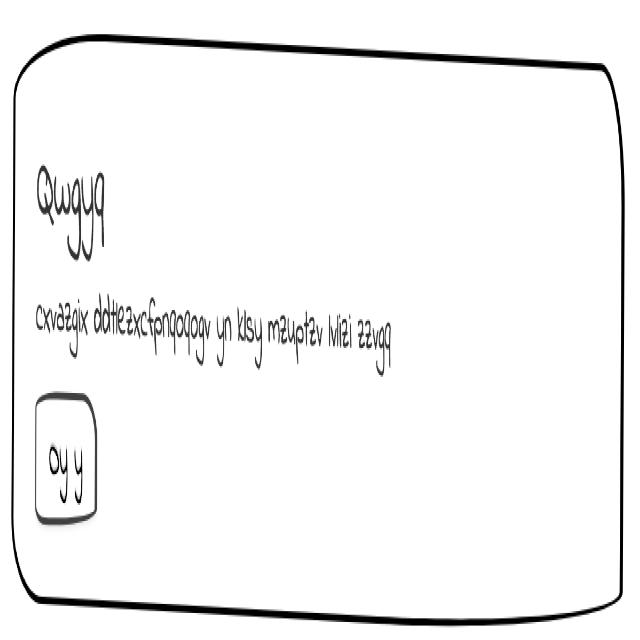Button: (25, 384, 104, 524)
Heading 6: (32, 149, 124, 272)
Paragraph: (31, 291, 413, 382)
